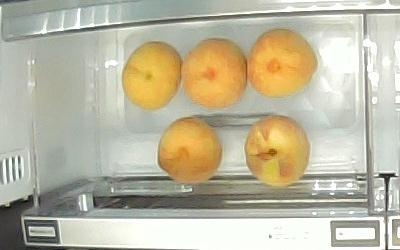peach: (246, 27, 319, 99), (245, 113, 312, 189), (181, 37, 247, 108), (158, 117, 222, 184), (121, 41, 183, 110)
